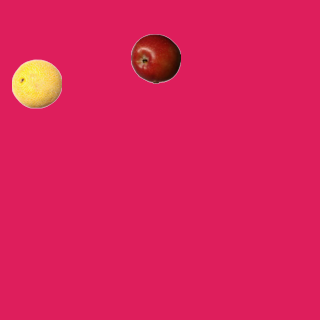Apple Braeburn: (130, 33, 180, 83)
Cantaloupe 1: (11, 58, 61, 108)
